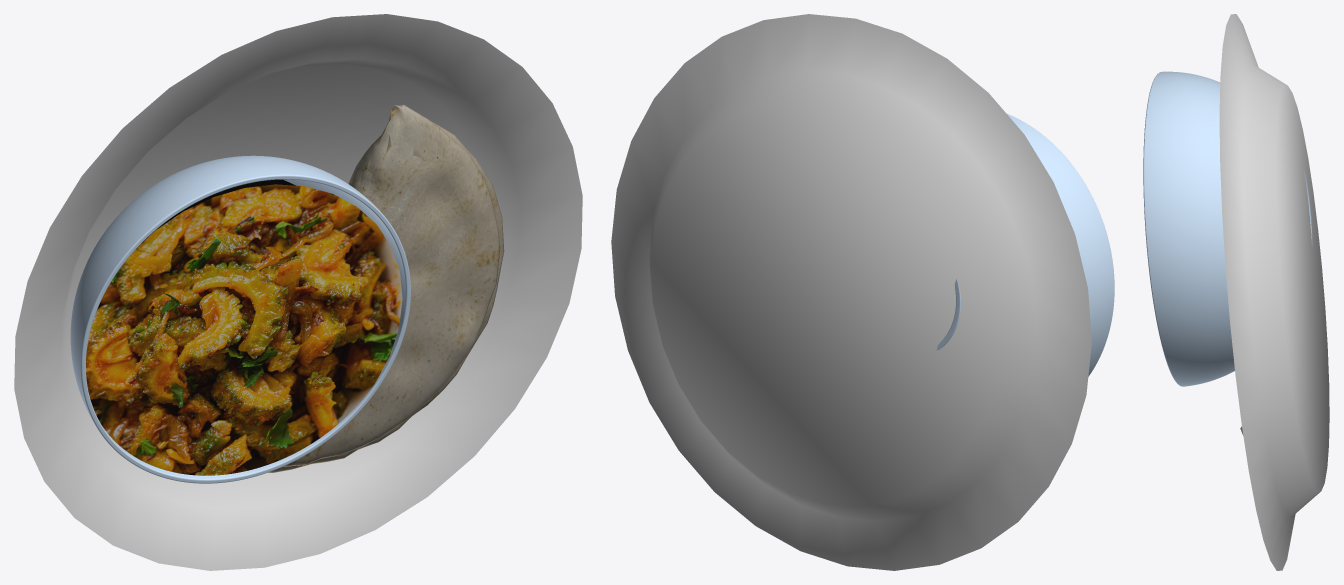
The model's file is karela.glb.
3 renders of one model, left to right at view 1: azimuth 30°, elevation 25°; view 2: azimuth 150°, elevation 25°; view 3: azimuth 270°, elevation 25°, orthographic. The views are drawn at different scales.
Parts seen in each view (by area): view 1: Circle.002, coffee.001, Cylinder.002, Kugel.001; view 2: Circle.002, Kugel.001; view 3: Circle.002, Kugel.001.
Boxes of the visible parts, bbox=[...] form: Circle.002: bbox=[14, 14, 582, 570]; coffee.001: bbox=[86, 179, 402, 475]; Cylinder.002: bbox=[268, 105, 504, 472]; Kugel.001: bbox=[70, 155, 410, 483]; Circle.002: bbox=[611, 14, 1091, 570]; Kugel.001: bbox=[936, 113, 1114, 376]; Circle.002: bbox=[1219, 14, 1329, 570]; Kugel.001: bbox=[1143, 71, 1312, 386].
Bounding box in the file's own units: 6.18 × 6.14 × 2.06.
Materials: 4 (2 with a texture image).
